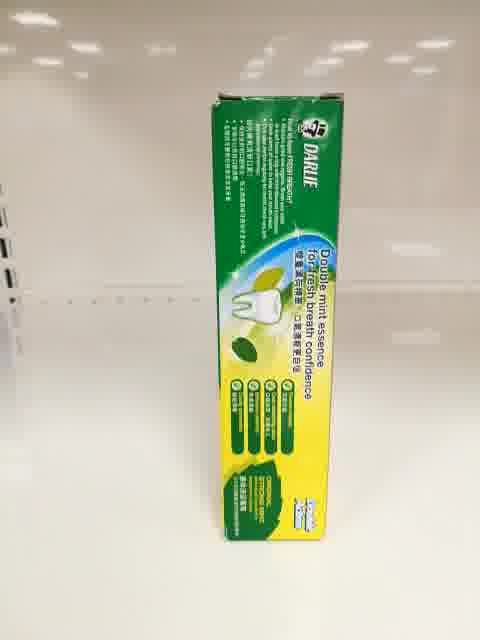toothpaste: (211, 92, 343, 541)
